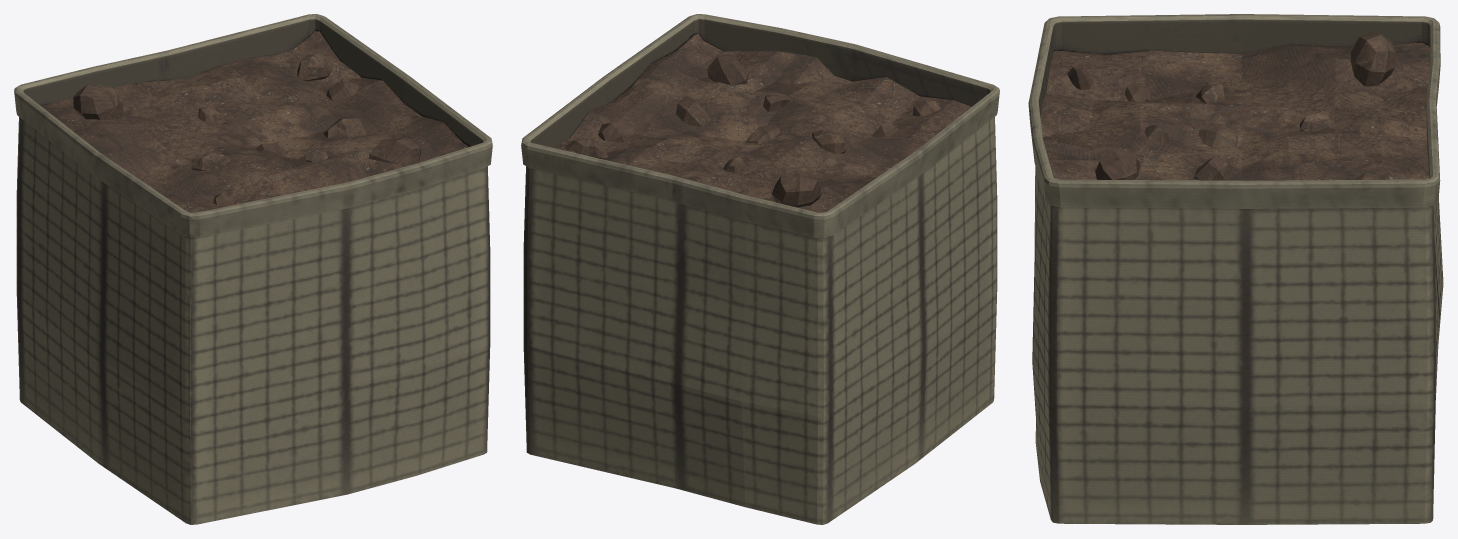
Rendered from sand_box.fbx.
3 renders of one model, left to right at view 1: azimuth 30°, elevation 25°; view 2: azimuth 150°, elevation 25°; view 3: azimuth 270°, elevation 25°, orthographic. The views are drawn at different scales.
Parts seen in each view (by area): view 1: sand_box; view 2: sand_box; view 3: sand_box.
Boxes of the visible parts, box(x1,y1,x2,y2) form: sand_box: box(14, 14, 492, 524); sand_box: box(521, 14, 999, 524); sand_box: box(1028, 14, 1443, 524).
Bounding box in the file's own units: 97.17 × 93.6 × 99.53.
